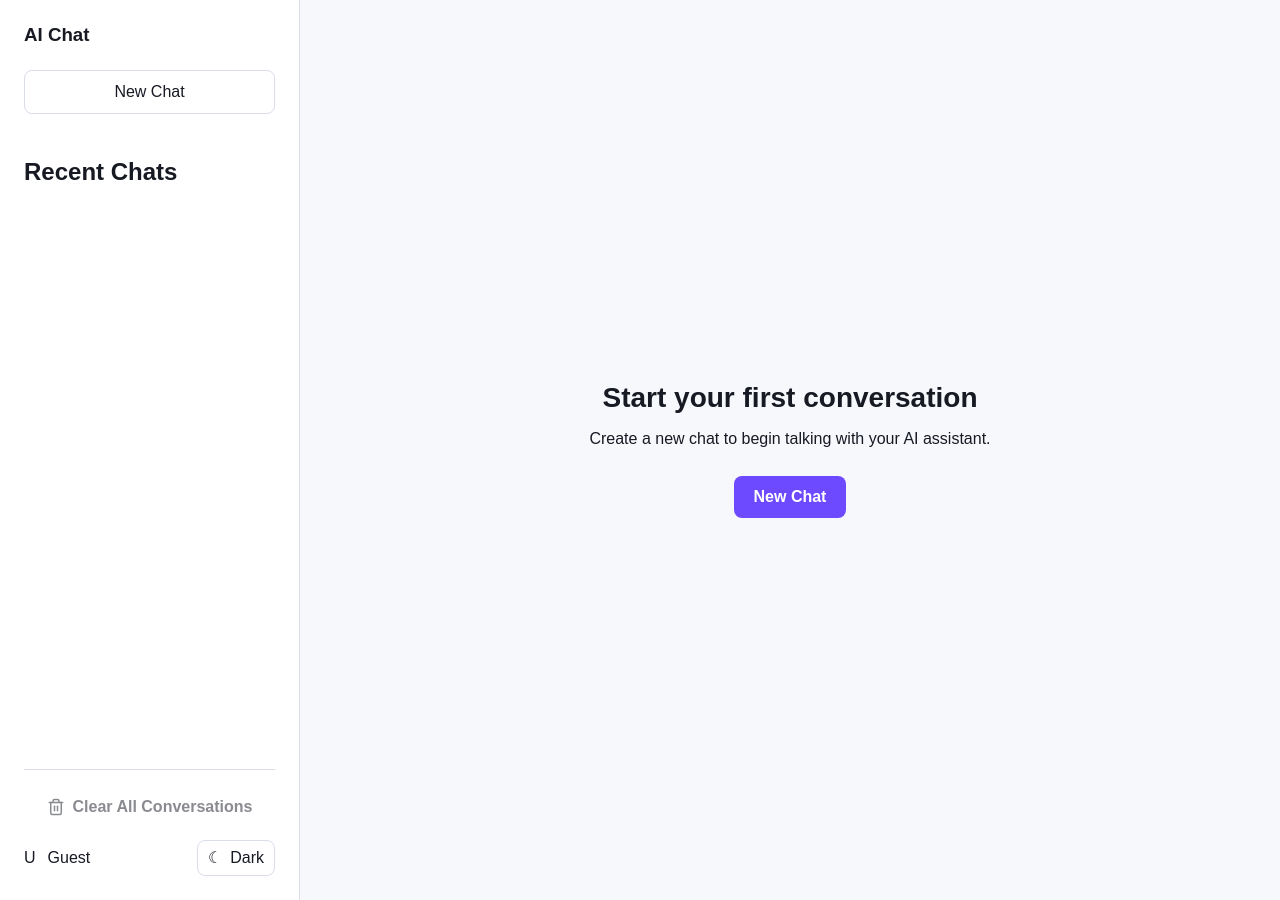
AppLayout › sends a message and renders the assistant response
The image size is (1280, 900).
Click the button "New Chat" below "AI Chat": click(150, 92) [24, 70, 275, 114]
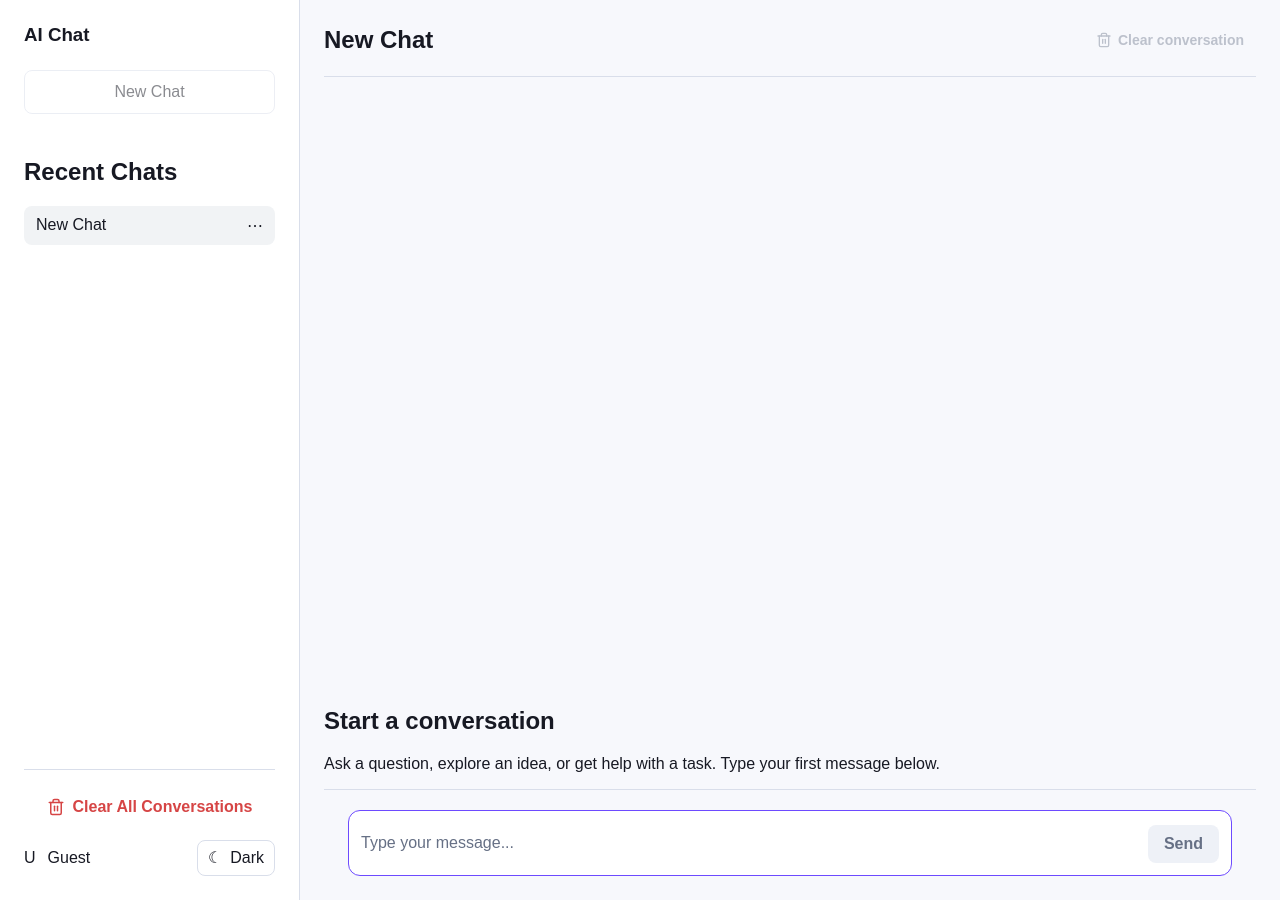
In the text box labelled "message": (748, 843) [361, 823, 1136, 863], type "Hello assistant"
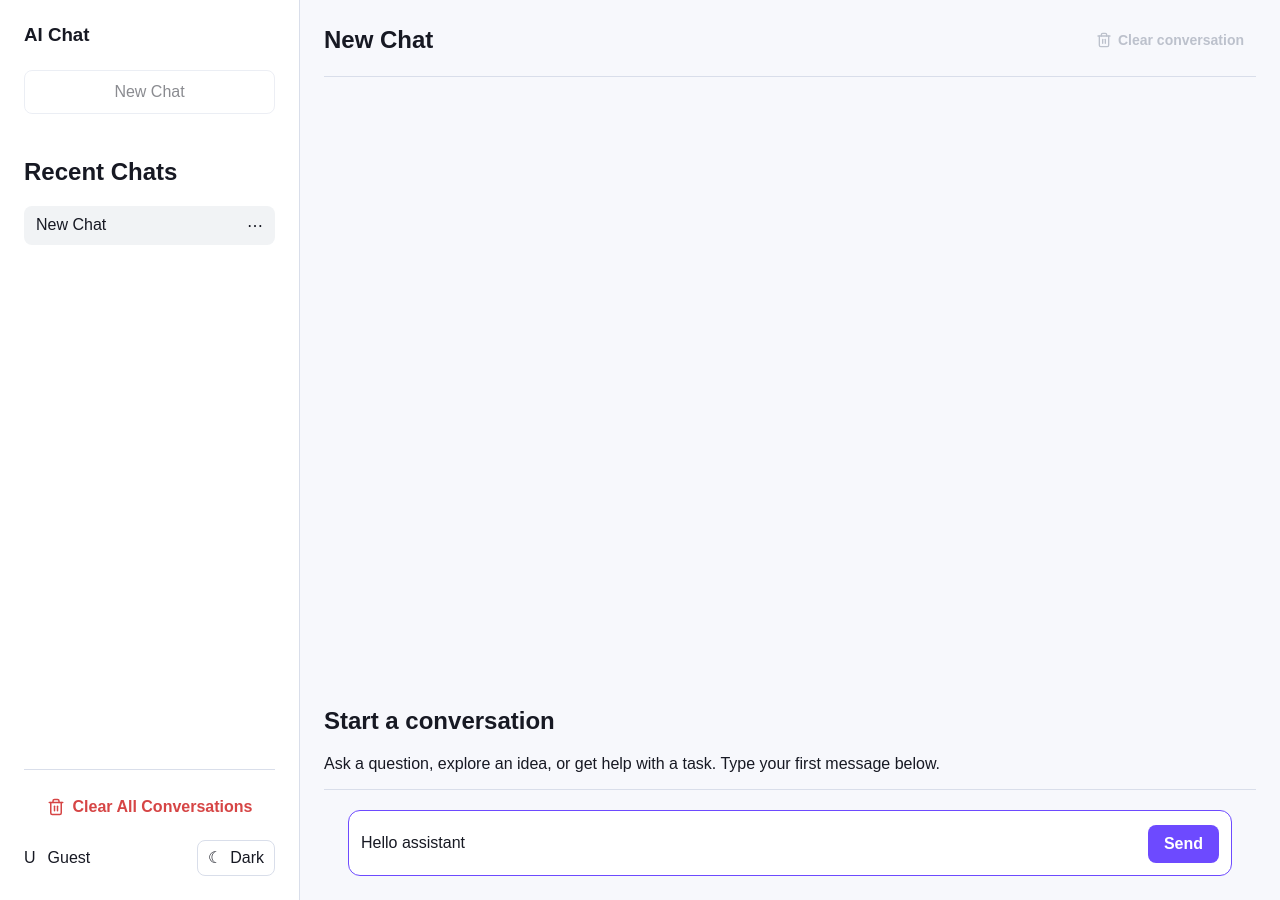
Click the button "Send": click(1183, 844) [1148, 825, 1219, 863]
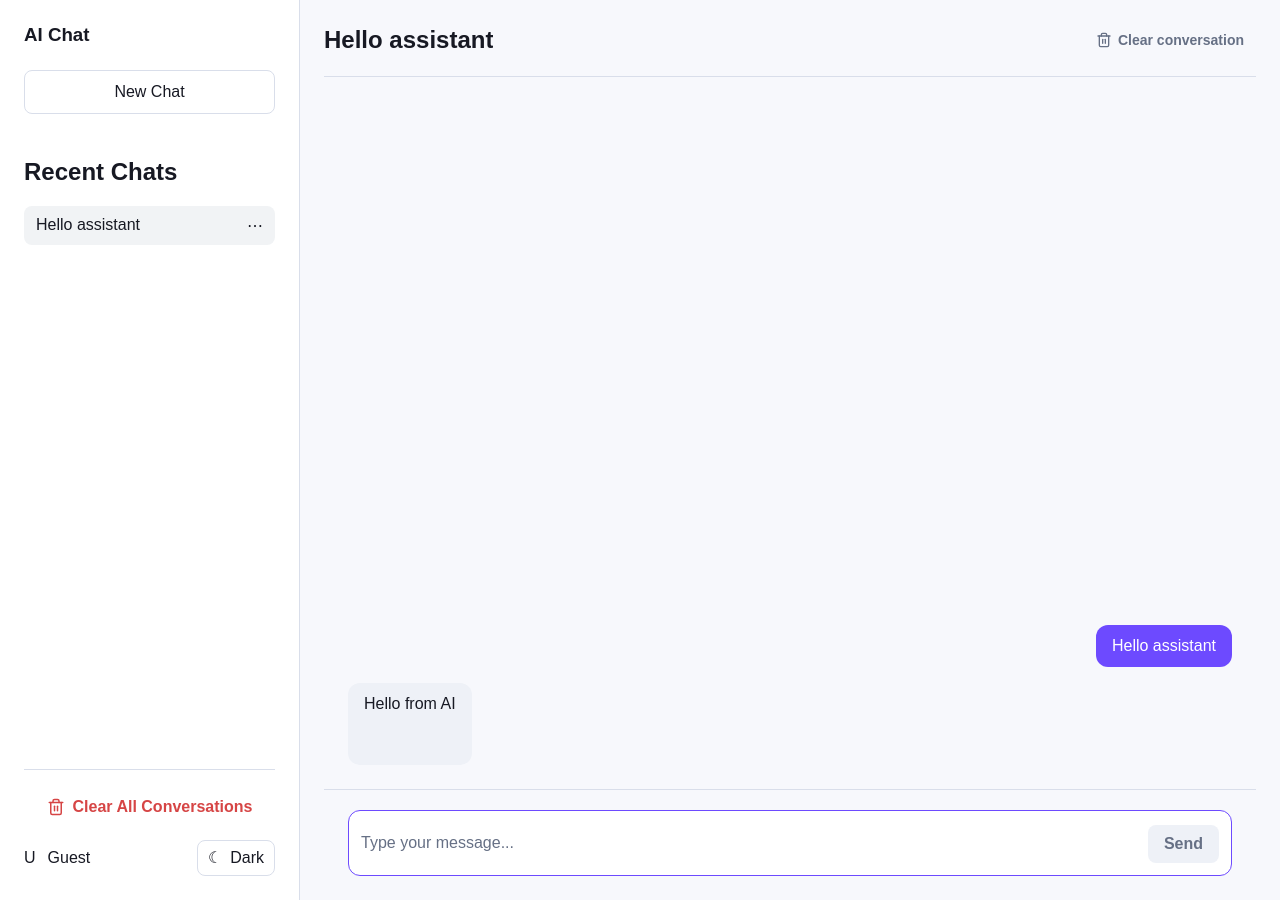
Expected: the 2nd text "Hello assistant" is shown, [1112, 637, 1216, 655]
Expected: the text "Hello from AI" is shown, [364, 695, 456, 713]
